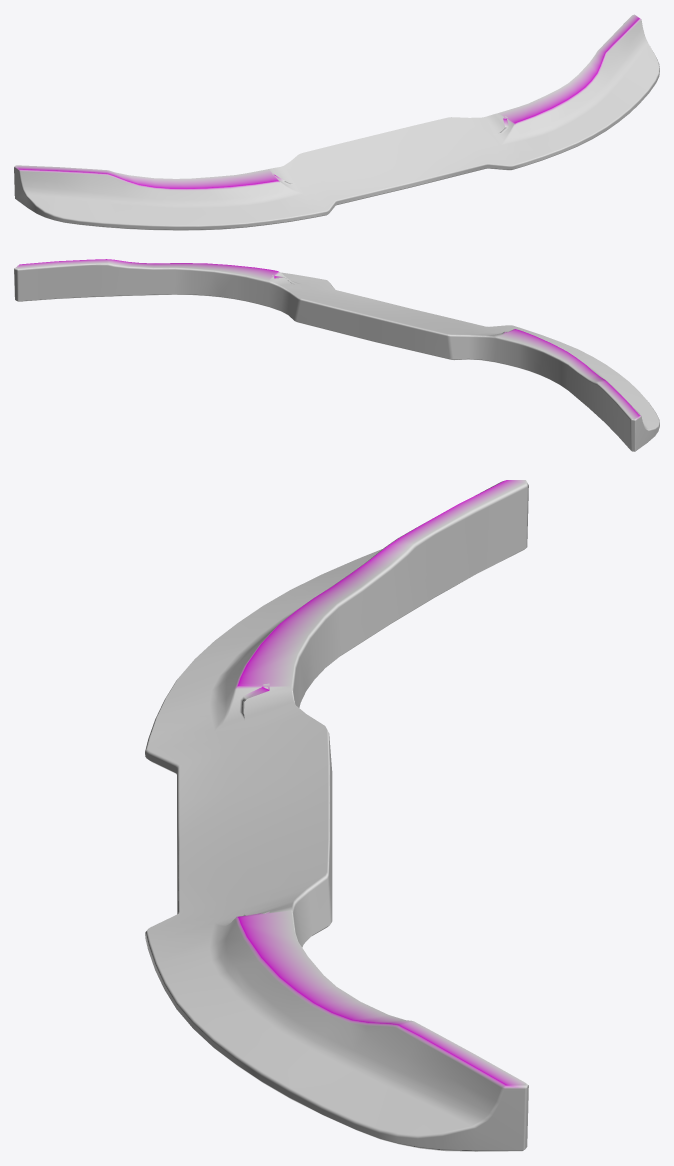
File: Car_Mini_CountrymanJCW_2017_Splitter_SetC_AltN.fbx
3 renders of one model, top to bottom at view 1: azimuth 30°, elevation 25°; view 2: azimuth 150°, elevation 25°; view 3: azimuth 270°, elevation 25°, orthographic. The views are drawn at different scales.
Parts seen in each view (by area): view 1: Splitter 6; view 2: Splitter 6; view 3: Splitter 6.
Part boxes in pixels (<box>): Splitter 6: <box>14,14,659,230</box>; Splitter 6: <box>14,259,659,451</box>; Splitter 6: <box>145,480,528,1151</box>.
Size of the model in its own units: 1.98 by 0.107 by 0.5293.
